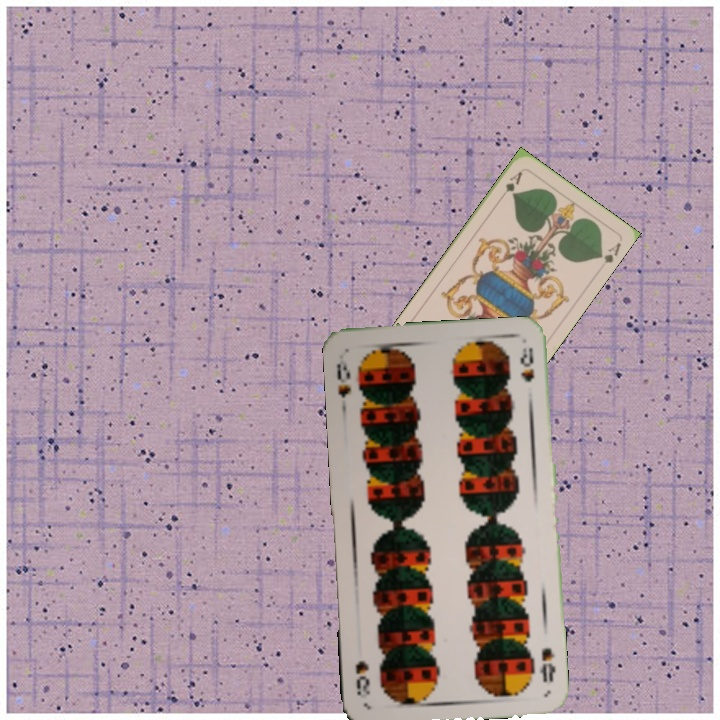GA: (496, 168, 525, 200)
S8: (332, 351, 354, 410), (536, 643, 559, 685)
